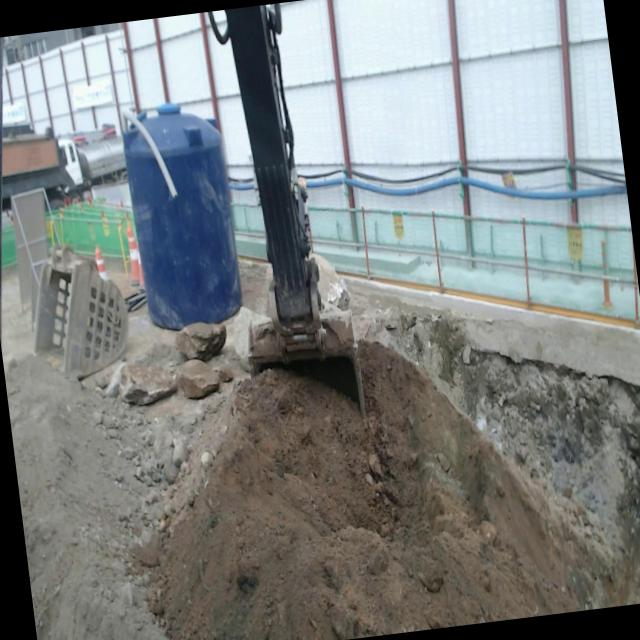red-sand: (139, 343, 640, 640)
stone: (108, 361, 177, 405), (232, 306, 271, 361), (175, 322, 226, 360), (178, 359, 220, 398)
white-sand: (3, 355, 169, 640)
